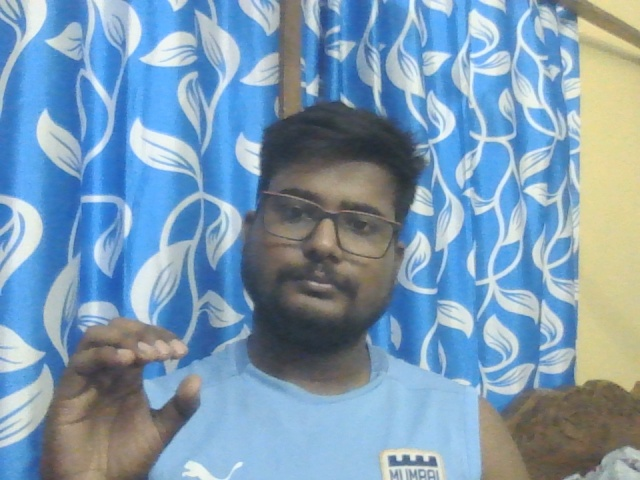C: (42, 317, 201, 480)
